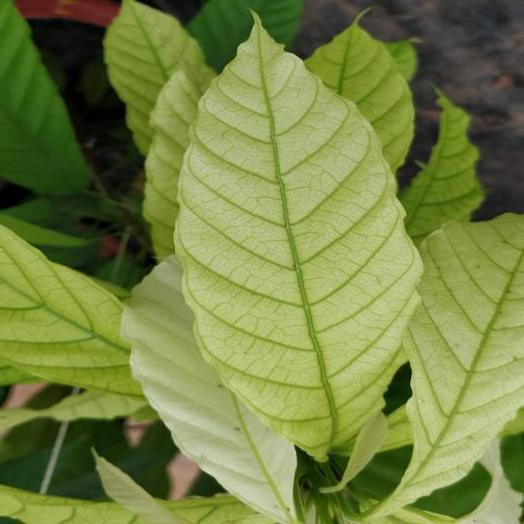Iron: (175, 17, 421, 460), (370, 215, 523, 517)
